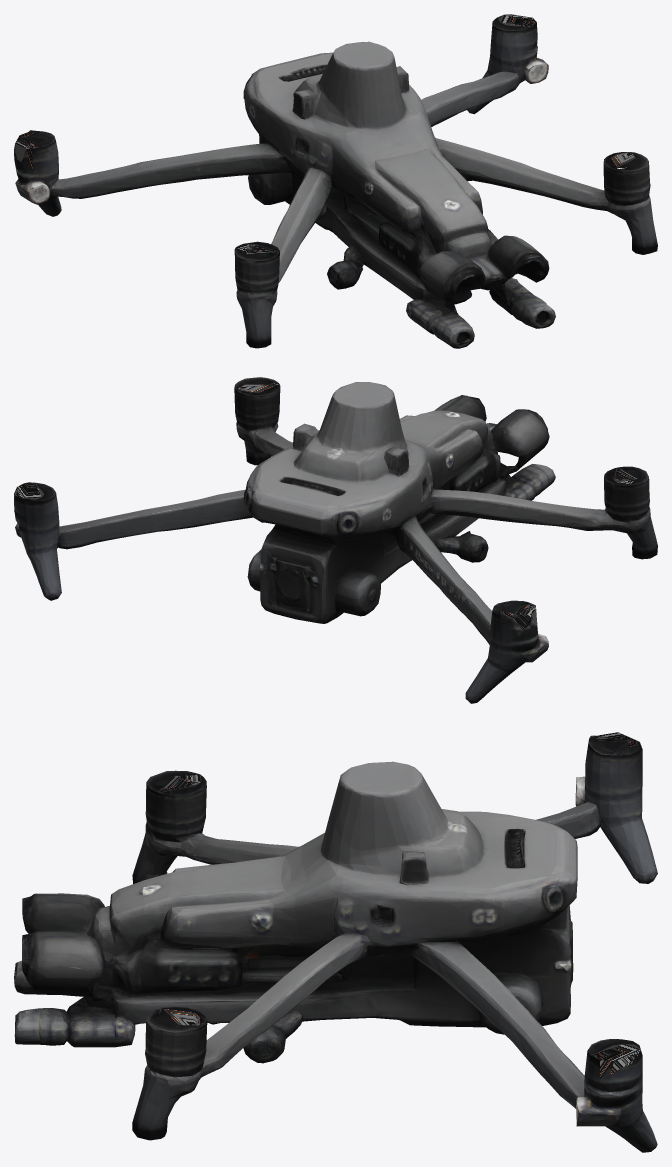
Rendered from drone1.glb.
3 renders of one model, top to bottom at view 1: azimuth 30°, elevation 25°; view 2: azimuth 150°, elevation 25°; view 3: azimuth 270°, elevation 25°, orthographic. The views are drawn at different scales.
Parts seen in each view (by area): view 1: world; view 2: world; view 3: world.
Part boxes in pixels (x1,y1,x2,y2): world: [14, 14, 657, 348]; world: [14, 377, 657, 703]; world: [14, 732, 657, 1152].
Bounding box in the file's own units: 0.8247 × 0.2808 × 0.6716.
1 material, 1 textured.
